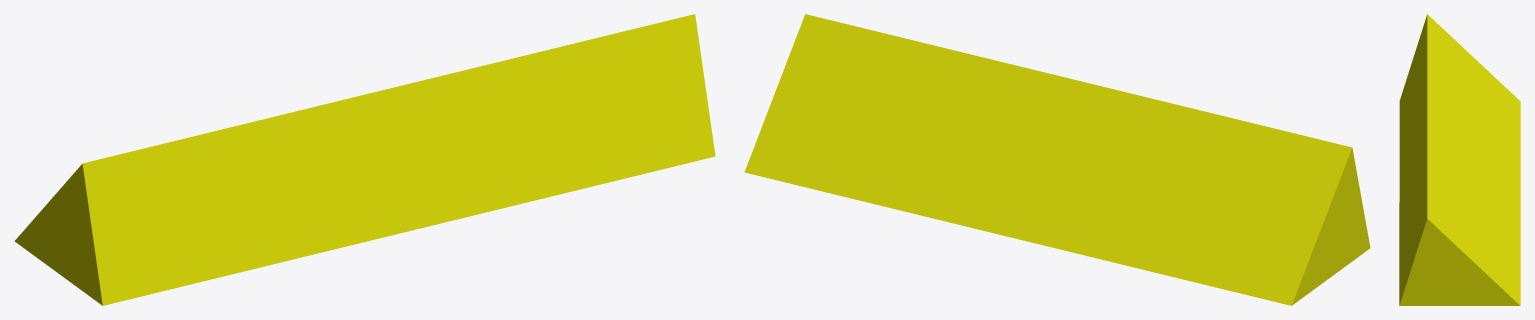
File: Ship_Light_Strip.fbx
The picture shows the model from 3 angles, left to right: view 1: azimuth 30°, elevation 25°; view 2: azimuth 150°, elevation 25°; view 3: azimuth 270°, elevation 25°; orthographic projection. The views are drawn at different scales.
Visible parts, largest first — view 1: Ship_Light_Strip; view 2: Ship_Light_Strip; view 3: Ship_Light_Strip.
Part boxes in pixels (x1=…): Ship_Light_Strip: x1=14, y1=14, x2=715, y2=305; Ship_Light_Strip: x1=744, y1=14, x2=1370, y2=305; Ship_Light_Strip: x1=1399, y1=14, x2=1520, y2=305.
Bounding box in the file's own units: 100 × 19.91 × 25.
